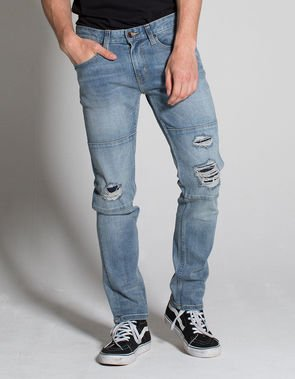Jeans: (71, 23, 225, 320)
